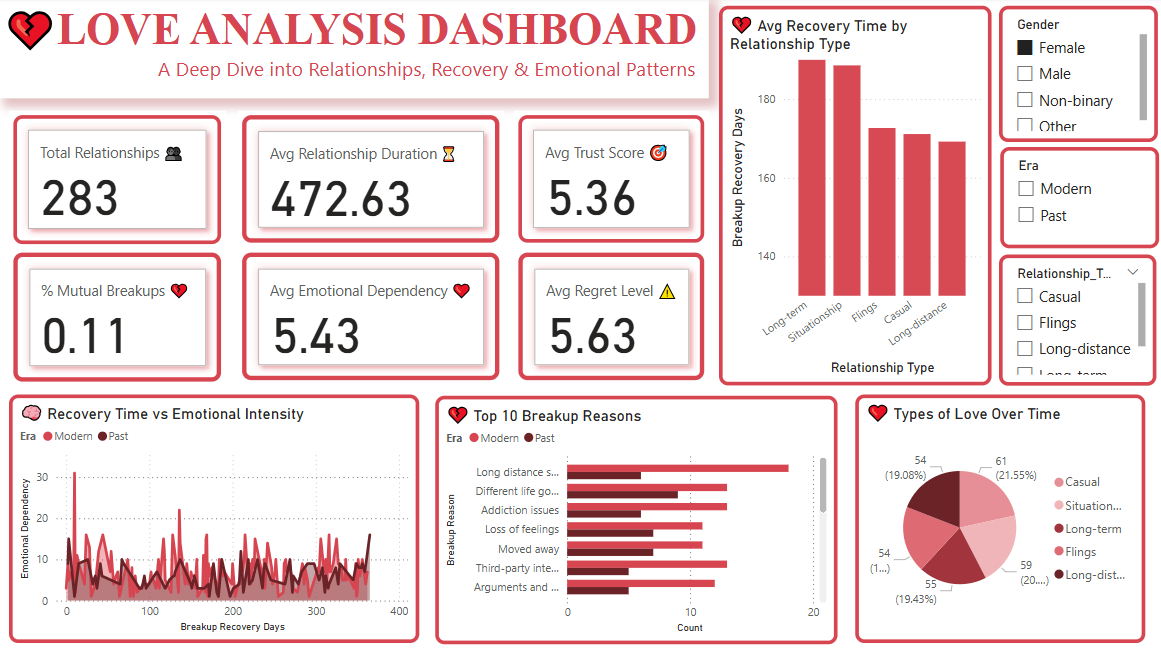

What the dashboard file says about the page in this screenshot:
{"tool":"powerbi","page":{"name":"Page 1","canvas":[1280,720],"ordinal":0},"visuals":[{"type":"textbox","box":[0,0,779.4,111.1],"z":0},{"type":"cardVisual","fields":{"Data":["Avg(Love_Analysis_Large_Dataset.Trust_Score)"]},"box":[565.4,124.9,214.1,150.9],"z":1000},{"type":"cardVisual","fields":{"Data":["CountNonNull(Love_Analysis_Large_Dataset.Person_ID)"]},"box":[11.4,124.3,238.6,151.4],"z":2000},{"type":"cardVisual","fields":{"Data":["Avg(Love_Analysis_Large_Dataset.Emotional_Dependency_Score)"]},"box":[262.1,275.8,292.3,150.9],"z":3000},{"type":"cardVisual","fields":{"Data":["Avg(Love_Analysis_Large_Dataset.Relationship_Duration_Days)"]},"box":[262.1,124.9,292.3,150.9],"z":4000},{"type":"cardVisual","fields":{"Data":["Avg(Love_Analysis_Large_Dataset.Regret_Level)"]},"box":[565.4,275.8,214.1,150.9],"z":5000},{"type":"cardVisual","fields":{"Data":["Sum(Love_Analysis_Large_Dataset.Percentage_Mutual_Breakups)"]},"box":[11.4,275.7,238.6,151.4],"z":6000},{"type":"pieChart","title":"❤️ Types of Love Over Time","fields":{"Category":["Love_Analysis_Large_Dataset.Relationship_Type"],"Y":["CountNonNull(Love_Analysis_Large_Dataset.Relationship_Type)"]},"box":[940,436.4,318.4,273.1],"z":7000},{"type":"lineChart","title":"🧠 Recovery Time vs Emotional Intensity","fields":{"Category":["Love_Analysis_Large_Dataset.Breakup_Recovery_Days"],"Y":["Sum(Love_Analysis_Large_Dataset.Emotional_Dependency_Score)"],"Series":["Love_Analysis_Large_Dataset.Era"]},"box":[11,436.4,450.1,273.1],"z":8000},{"type":"clusteredBarChart","title":"💔 Top 10 Breakup Reasons","fields":{"Category":["Love_Analysis_Large_Dataset.Breakup_Reason"],"Y":["CountNonNull(Love_Analysis_Large_Dataset.Breakup_Reason)"],"Series":["Love_Analysis_Large_Dataset.Era"]},"box":[478.9,437.7,441.9,273.1],"z":9000},{"type":"slicer","fields":{"Values":["Love_Analysis_Large_Dataset.Era"]},"box":[1099.1,164.7,174.3,111.1],"z":10000},{"type":"slicer","fields":{"Values":["Love_Analysis_Large_Dataset.Gender"]},"box":[1097.8,9.6,174.3,149.6],"z":11000},{"type":"columnChart","title":"💔 Avg Recovery Time by Relationship Type","fields":{"Category":["Love_Analysis_Large_Dataset.Relationship_Type"],"Y":["Avg(Love_Analysis_Large_Dataset.Breakup_Recovery_Days)"]},"box":[790.4,9.6,299.1,417.2],"z":13000},{"type":"slicer","fields":{"Values":["Love_Analysis_Large_Dataset.Relationship_Type"]},"box":[1097.8,282.7,172.9,144.1],"z":13001}]}

Visuals, with their boxes in screenshot pixels (x1, y1, x2, y2), scaled from the page's 1280x720 canvas onto the 1161x650 screenshot:
textbox: [x1=0, y1=0, x2=707, y2=100]
cardVisual - Avg(Love_Analysis_Large_Dataset.Trust_Score): [x1=513, y1=113, x2=707, y2=249]
cardVisual - CountNonNull(Love_Analysis_Large_Dataset.Person_ID): [x1=10, y1=112, x2=227, y2=249]
cardVisual - Avg(Love_Analysis_Large_Dataset.Emotional_Dependency_Score): [x1=238, y1=249, x2=503, y2=385]
cardVisual - Avg(Love_Analysis_Large_Dataset.Relationship_Duration_Days): [x1=238, y1=113, x2=503, y2=249]
cardVisual - Avg(Love_Analysis_Large_Dataset.Regret_Level): [x1=513, y1=249, x2=707, y2=385]
cardVisual - Sum(Love_Analysis_Large_Dataset.Percentage_Mutual_Breakups): [x1=10, y1=249, x2=227, y2=386]
"❤️ Types of Love Over Time" pieChart: [x1=853, y1=394, x2=1141, y2=641]
"🧠 Recovery Time vs Emotional Intensity" lineChart: [x1=10, y1=394, x2=418, y2=641]
"💔 Top 10 Breakup Reasons" clusteredBarChart: [x1=434, y1=395, x2=835, y2=642]
slicer - Love_Analysis_Large_Dataset.Era: [x1=997, y1=149, x2=1155, y2=249]
slicer - Love_Analysis_Large_Dataset.Gender: [x1=996, y1=9, x2=1154, y2=144]
"💔 Avg Recovery Time by Relationship Type" columnChart: [x1=717, y1=9, x2=988, y2=385]
slicer - Love_Analysis_Large_Dataset.Relationship_Type: [x1=996, y1=255, x2=1153, y2=385]
